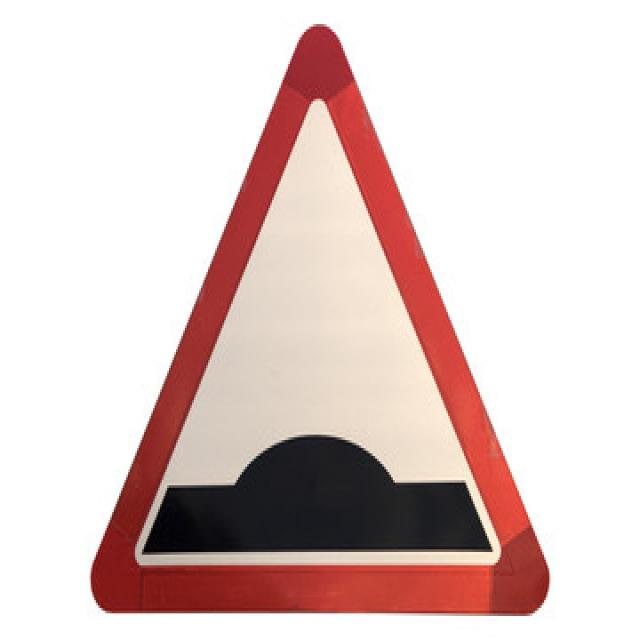hump: (91, 21, 553, 615)
